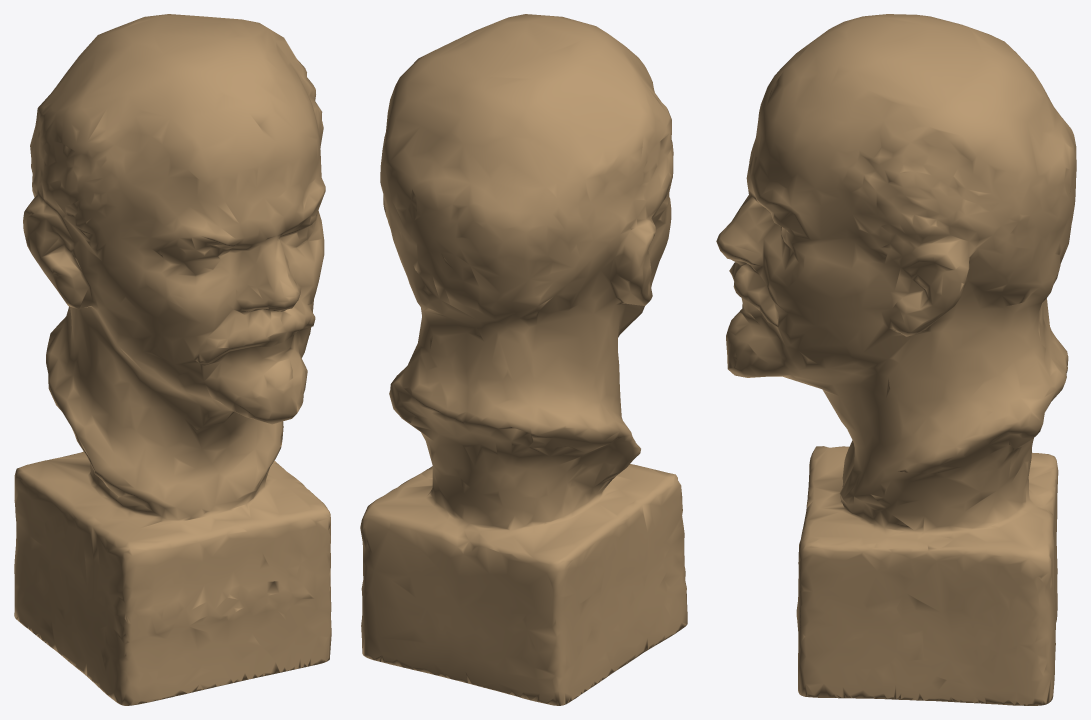
The model's file is lenin-bust-low.glb.
3 views of the same model, side by side, from view 1: azimuth 30°, elevation 25°; view 2: azimuth 150°, elevation 25°; view 3: azimuth 270°, elevation 25° (orthographic). The views are drawn at different scales.
Visible parts, largest first — view 1: geometry_0; view 2: geometry_0; view 3: geometry_0.
Part boxes in pixels (left/top/right/bottom): geometry_0: left=14, top=14, right=331, bottom=705; geometry_0: left=360, top=14, right=687, bottom=705; geometry_0: left=716, top=14, right=1076, bottom=705.
Size of the model in its own units: 0.4639 by 1 by 0.529.
